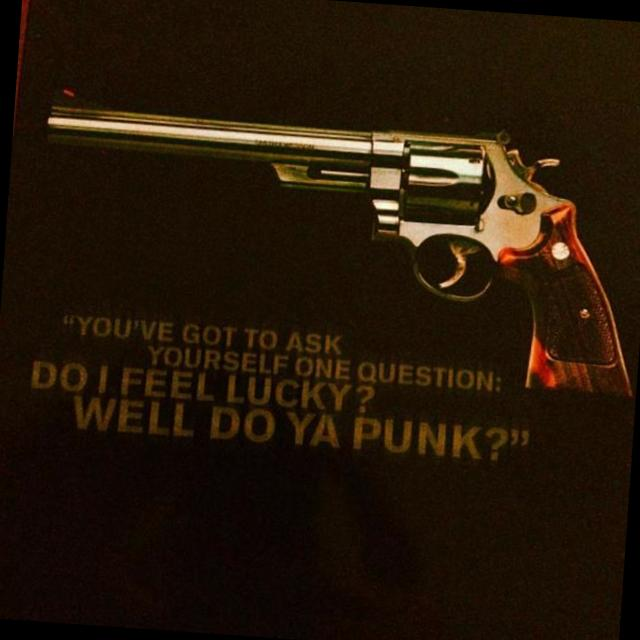Gun: (49, 106, 631, 395)
